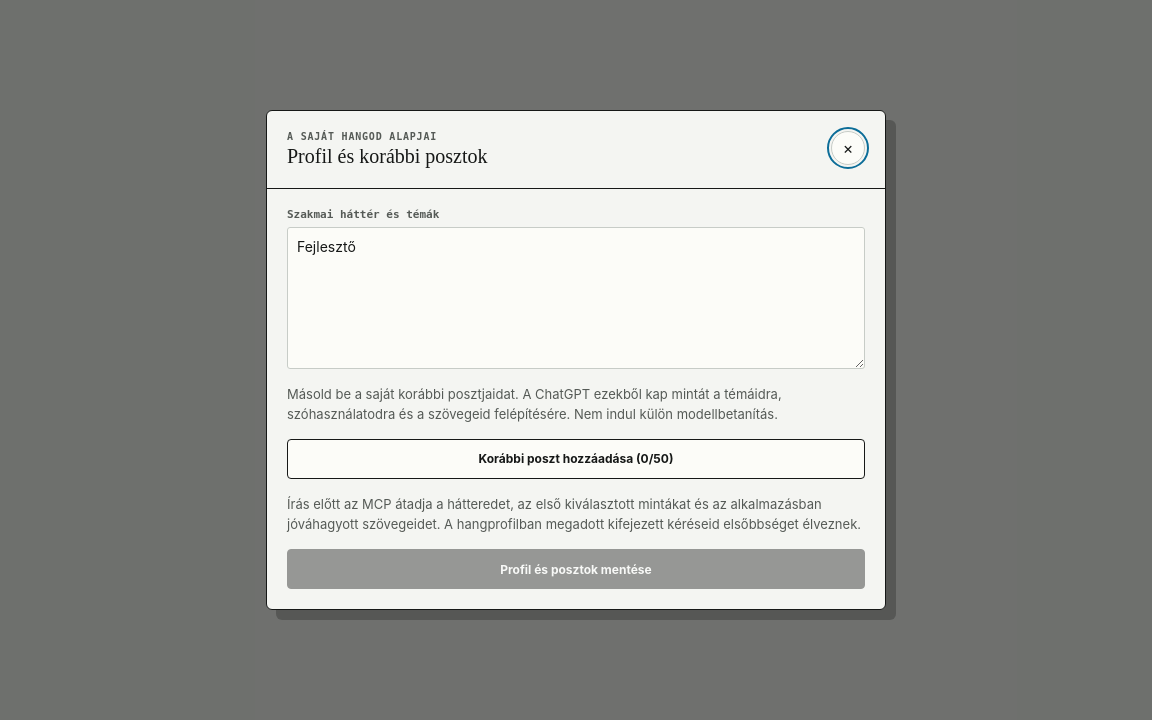
Test: keeps edited text visible if saving fails
Replace the text in the text box labelled "Szakmai háttér és témák" with "Új szakmai háttér" at (576, 298), box x1=287 y1=227 x2=865 y2=369
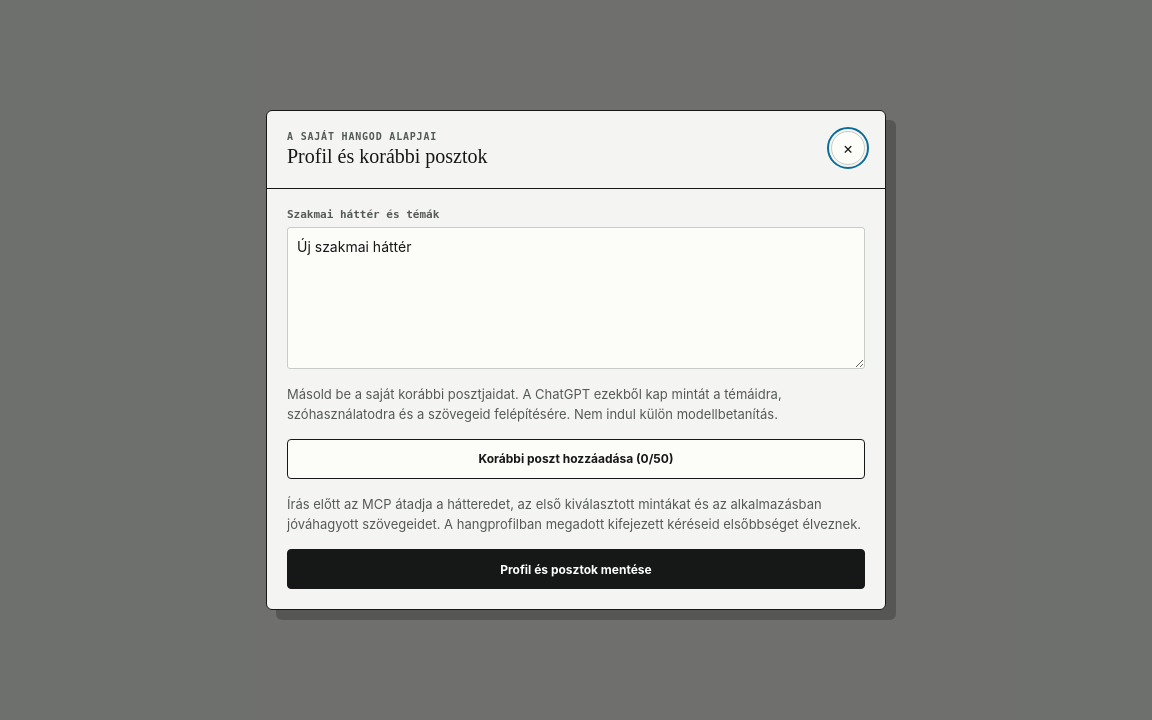
Click the button "Profil és posztok mentése" at (576, 569), box x1=287 y1=549 x2=865 y2=589
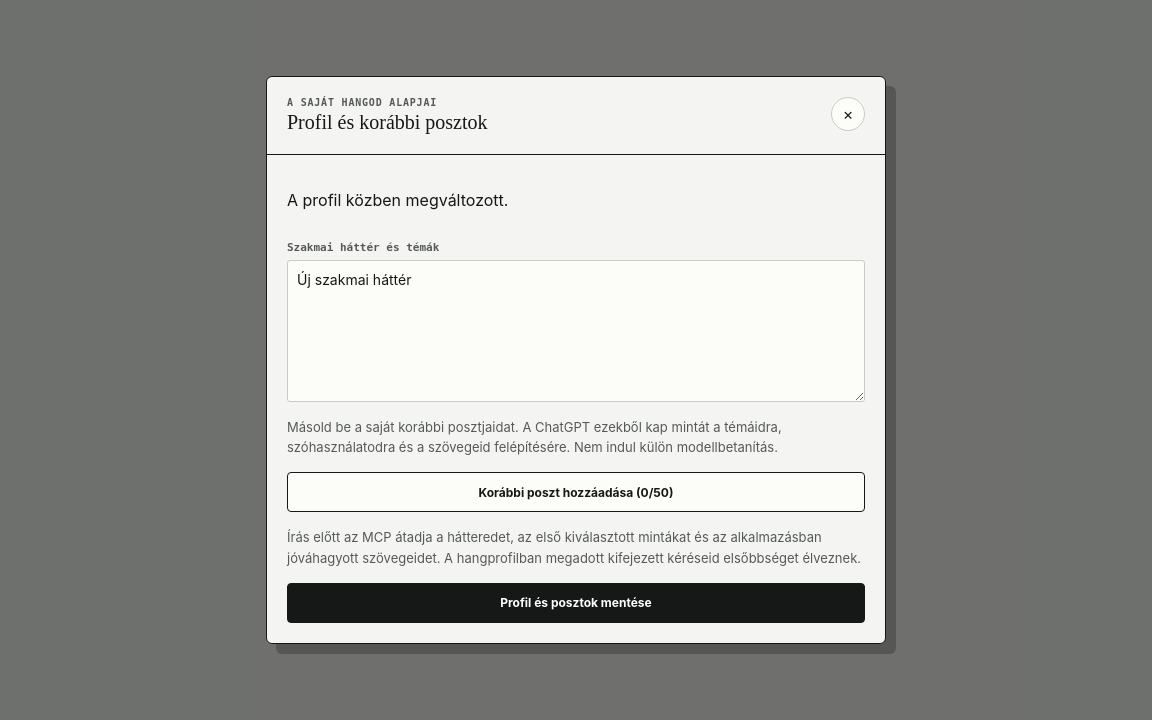
Check: the message shows "megváltozott", box x1=287 y1=190 x2=508 y2=210
